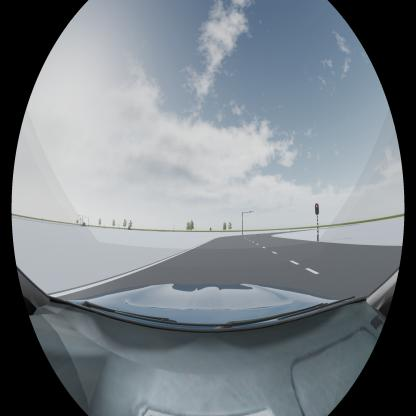Red Light: (315, 203, 320, 216)
